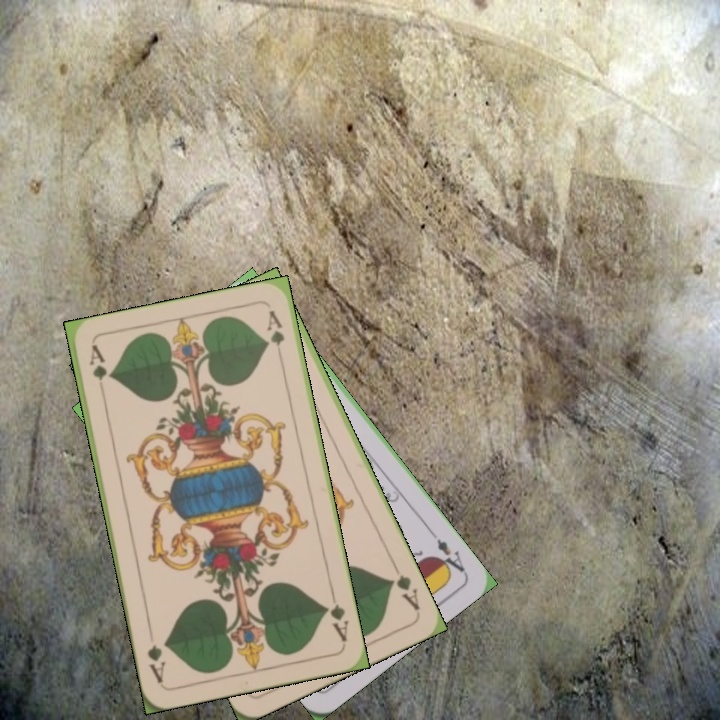EA: (426, 527, 469, 578)
GA: (385, 560, 422, 614), (320, 588, 352, 644), (84, 341, 109, 400)
